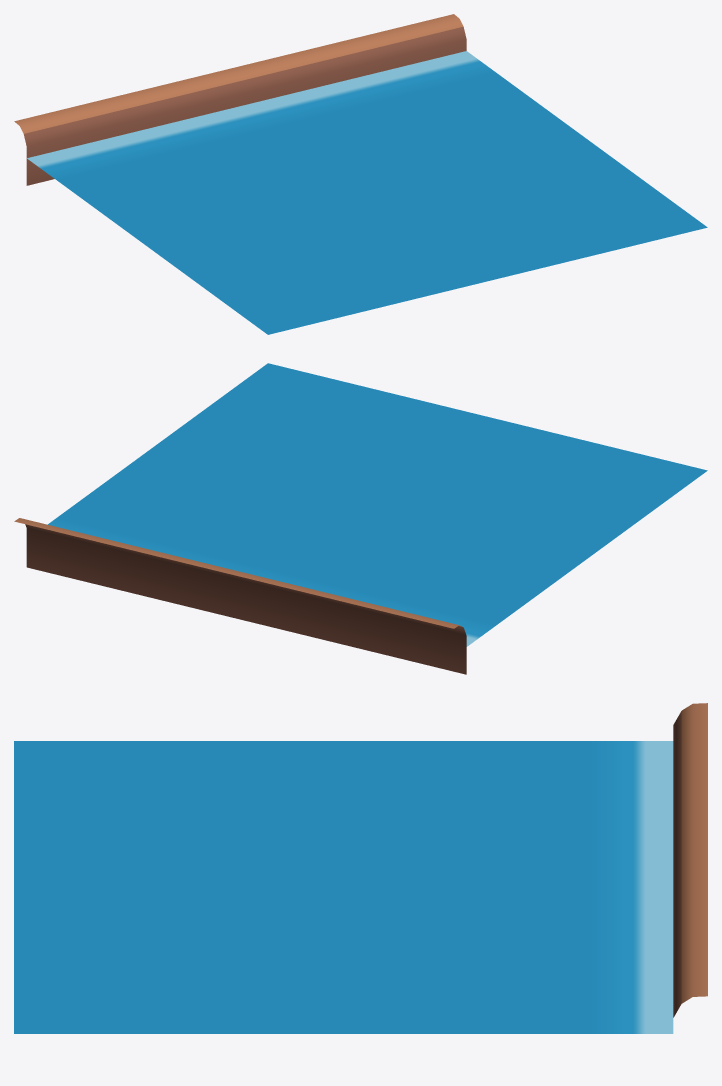
The model's file is water_bank.glb.
3 renders of one model, top to bottom at view 1: azimuth 30°, elevation 25°; view 2: azimuth 150°, elevation 25°; view 3: azimuth 270°, elevation 25°, orthographic. The views are drawn at different scales.
Parts seen in each view (by area): view 1: water_bank; view 2: water_bank; view 3: water_bank.
Boxes of the visible parts, left/top/right/bottom form: water_bank: left=14, top=14, right=707, bottom=334; water_bank: left=14, top=363, right=707, bottom=674; water_bank: left=14, top=703, right=707, bottom=1033.
Bounding box in the file's own units: 1 × 0.12 × 1.
Materials: 3 (1 with a texture image).
